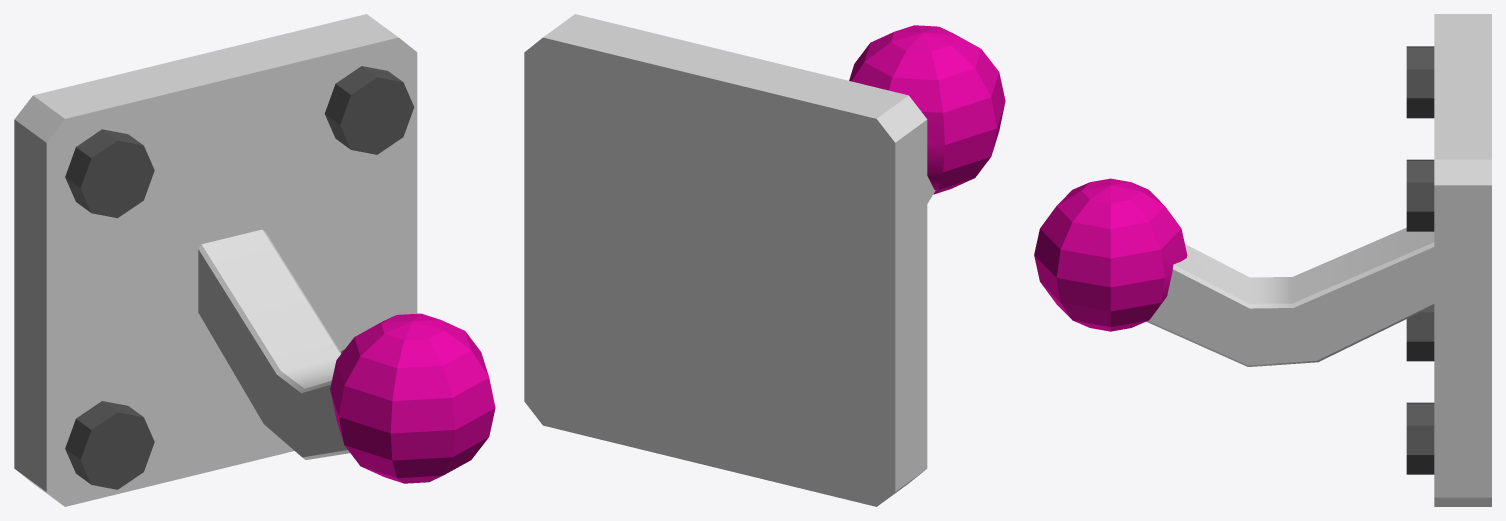
Rendered from wallMountSphere.fbx.
3 views of the same model, side by side, from view 1: azimuth 30°, elevation 25°; view 2: azimuth 150°, elevation 25°; view 3: azimuth 270°, elevation 25° (orthographic). The views are drawn at different scales.
Visible parts, largest first — view 1: wallMountSphere; view 2: wallMountSphere; view 3: wallMountSphere.
Part boxes in pixels (box(x1,y1,x2,y2)): wallMountSphere: box(14, 14, 495, 506); wallMountSphere: box(524, 14, 1005, 506); wallMountSphere: box(1034, 14, 1491, 506).
Size of the model in its own units: 1 by 1 by 1.19.
